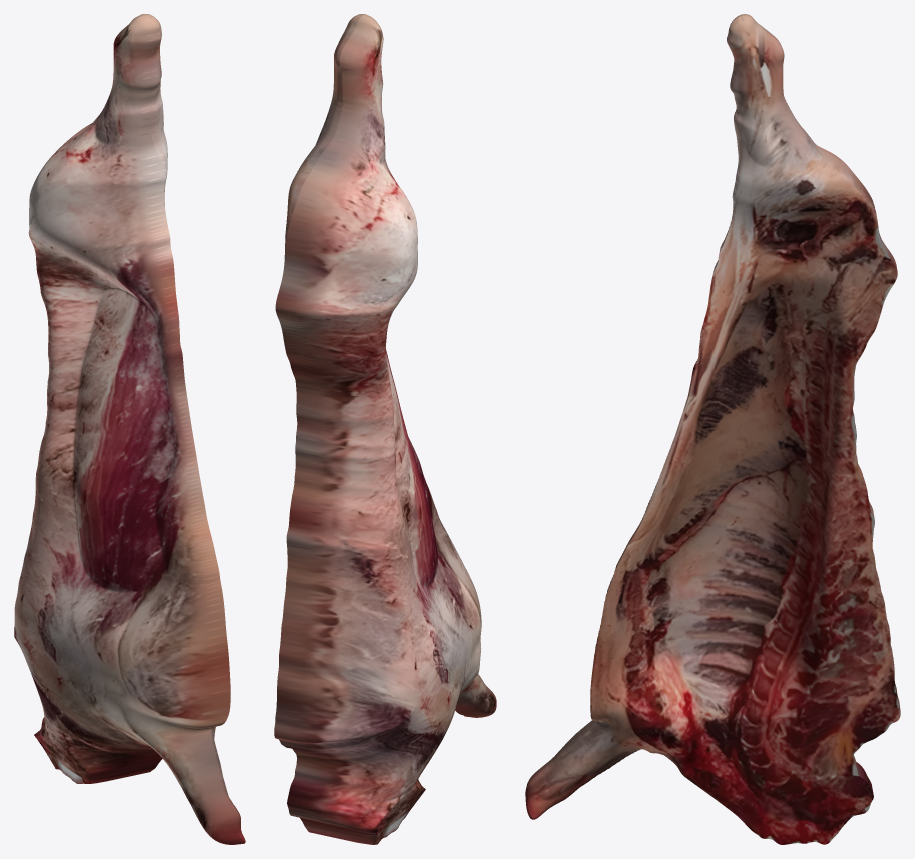
The model's file is demi_carcasse_boeuf_v5.glb.
3 views of the same model, side by side, from view 1: azimuth 30°, elevation 25°; view 2: azimuth 150°, elevation 25°; view 3: azimuth 270°, elevation 25° (orthographic). The views are drawn at different scales.
Parts seen in each view (by area): view 1: face_exterieure, face_de_fente; view 2: face_exterieure, face_de_fente; view 3: face_de_fente, face_exterieure.
Part boxes in pixels (x1=…): face_exterieure: x1=14, y1=14, x2=244, y2=844; face_de_fente: x1=143, y1=14, x2=245, y2=842; face_exterieure: x1=274, y1=14, x2=496, y2=844; face_de_fente: x1=284, y1=14, x2=465, y2=716; face_de_fente: x1=525, y1=16, x2=900, y2=844; face_exterieure: x1=526, y1=14, x2=900, y2=794.
Bounding box in the file's own units: 0.421 × 2.5 × 1.03.
Materials: 2 (2 with a texture image).
